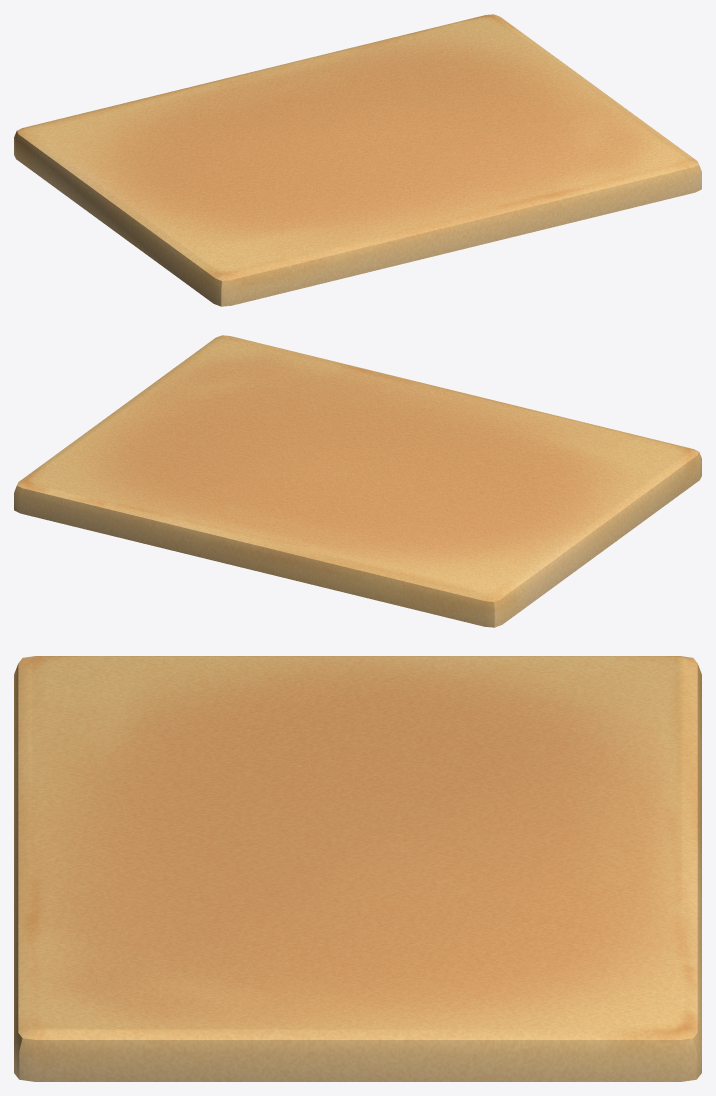
Rendered from rollcake.fbx.
3 views of the same model, one above another, from view 1: azimuth 30°, elevation 25°; view 2: azimuth 150°, elevation 25°; view 3: azimuth 270°, elevation 25° (orthographic). The views are drawn at different scales.
Visible parts, largest first — view 1: Box001; view 2: Box001; view 3: Box001.
Boxes of the visible parts, x1,y1,x2,y2 form: Box001: (14,14,701,306); Box001: (14,335,701,627); Box001: (14,656,701,1081).
Size of the model in its own units: 11.24 by 0.594 by 8.43.
1 material, 1 textured.
